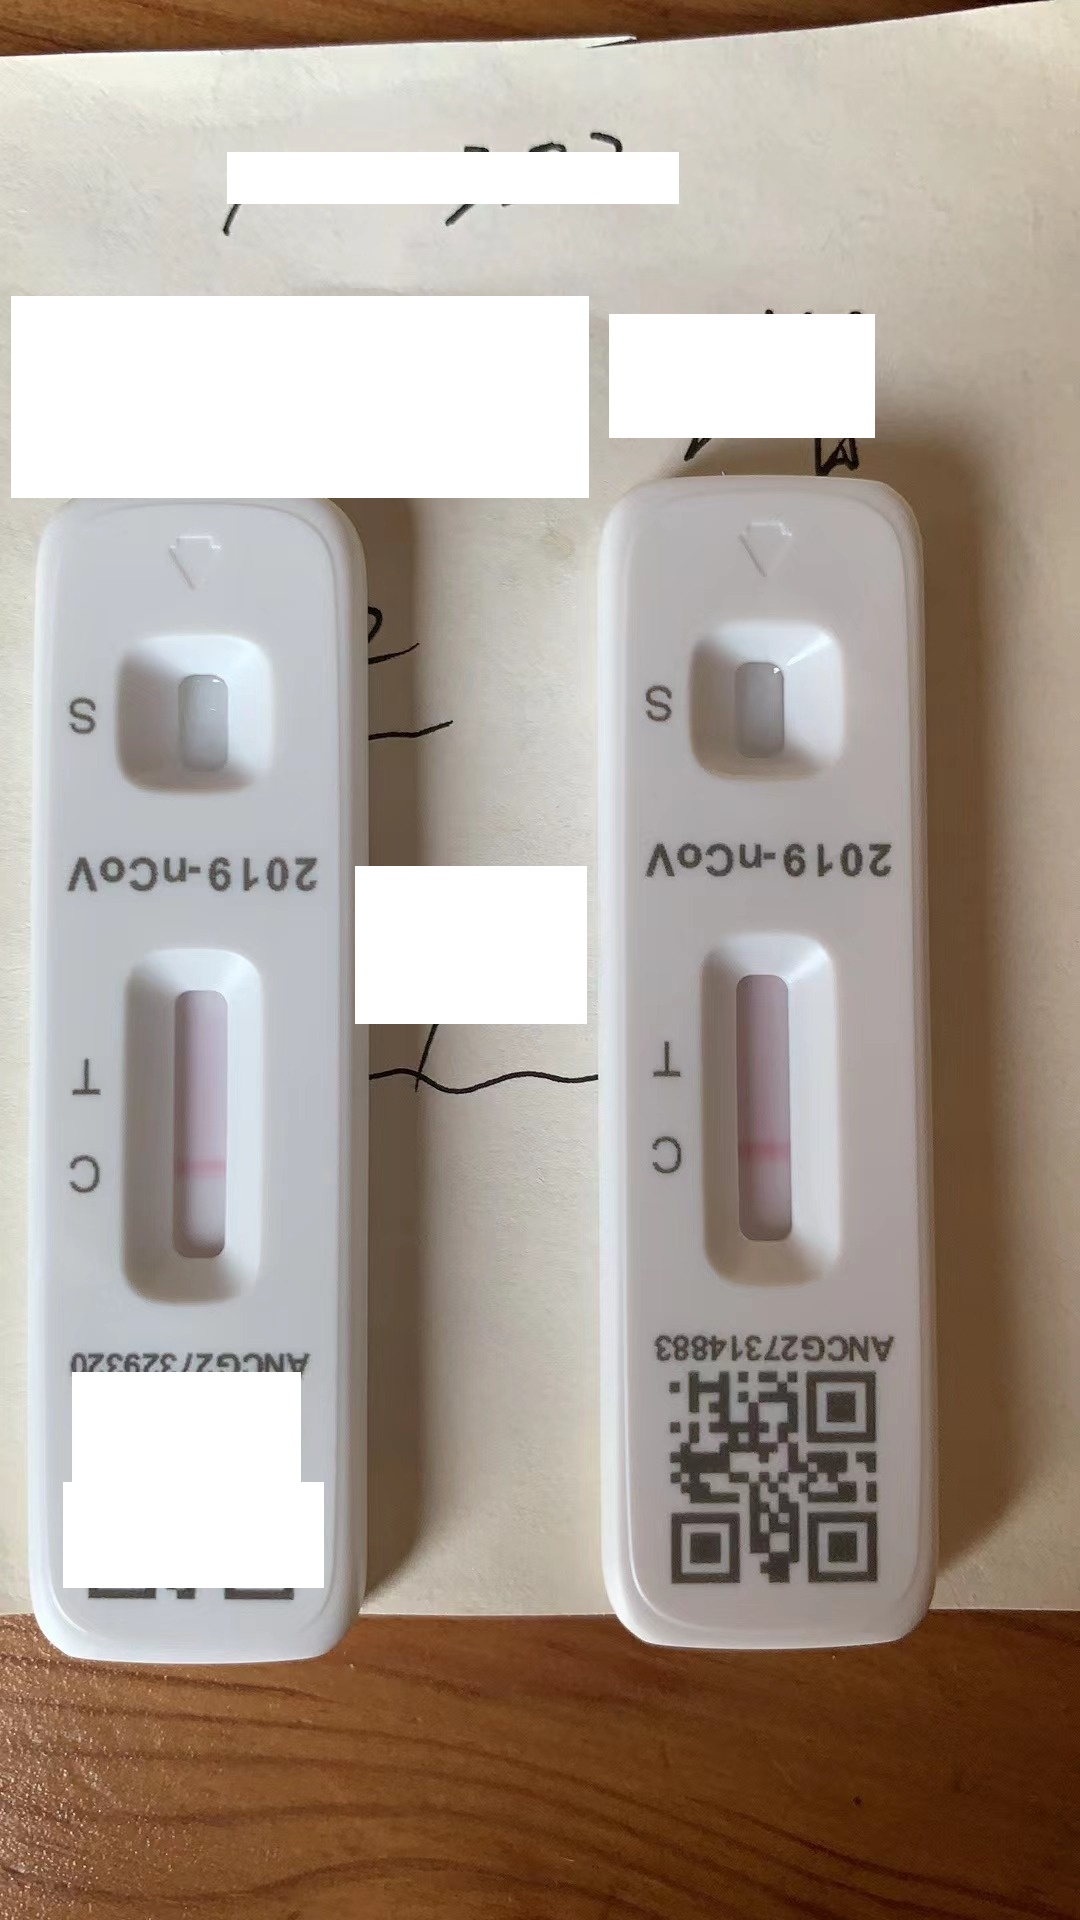negative: (124, 952, 260, 1319), (705, 934, 835, 1298)
